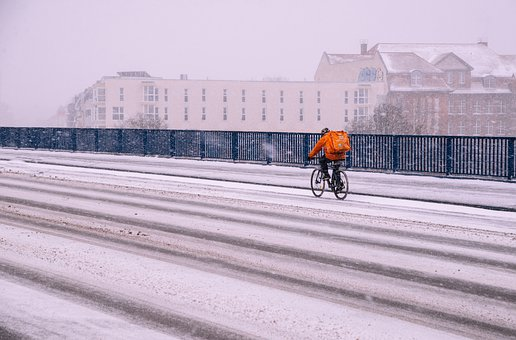commuter: (306, 128, 352, 201)
